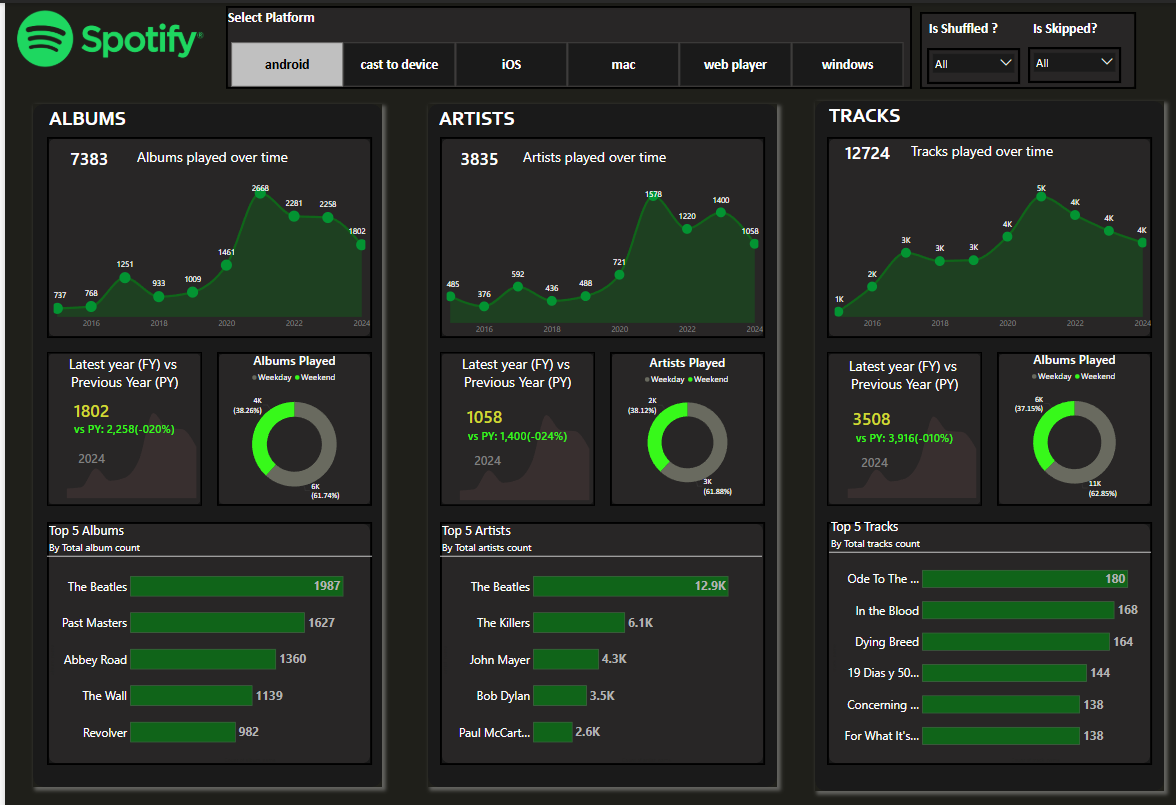

The dashboard page shown, as its layout file describes it:
{"tool":"powerbi","page":{"name":"Overview","canvas":[3300,2200],"ordinal":0},"visuals":[{"type":"shape","box":[600.2,8.1,1863.2,225.4],"z":0},{"type":"image","box":[0,0,575,200],"z":1000},{"type":"shape","box":[76,274.3,947.9,1855.1],"z":2000},{"type":"shape","box":[114.1,364,882.7,545.9],"z":3000},{"type":"textbox","box":[114.1,274.3,230.9,89.6],"z":4000},{"type":"card","fields":{"Values":["spotify_history.No of Albums"]},"box":[144,385.7,171.1,67.9],"z":5000},{"type":"textbox","box":[353.1,385.7,442.7,67.9],"z":6000},{"type":"areaChart","fields":{"Category":["Date Table.Year"],"Y":["spotify_history.No of Albums"]},"box":[114.1,480.7,882.7,412.8],"z":7000},{"type":"shape","box":[114.1,947.9,421,418.3],"z":8000},{"type":"areaChart","fields":{"Category":["Date Table.Year"],"Y":["spotify_history.No of Albums"]},"box":[114.1,1064.7,421,285.2],"z":9000},{"type":"textbox","box":[114.1,947.9,421,116.8],"z":10000},{"type":"card","fields":{"Values":["spotify_history.CurrentYearAlbums"]},"box":[144,1070.1,182,70.6],"z":11000},{"type":"card","fields":{"Values":["spotify_history.PY and YoY Albums KPI"]},"box":[160.2,1127.2,328.6,57],"z":12000},{"type":"slicer","fields":{"Values":["spotify_history.platform"]},"box":[589.4,100.5,1874.1,133.1],"z":13000},{"type":"card","fields":{"Values":["spotify_history.Max Year"]},"box":[171.1,1208.6,127.7,57],"z":14000},{"type":"shape","box":[575.8,947.9,421,418.3],"z":15000},{"type":"donutChart","title":"Albums Played","fields":{"Category":["Date Table.Weekday_Weekend"],"Y":["spotify_history.No of Albums"]},"box":[575.8,947.9,421,418.3],"z":16000},{"type":"shape","box":[114.1,1409.6,882.7,660],"z":17000},{"type":"barChart","title":"Top 5 Albums","fields":{"Category":["spotify_history.album_name"],"Y":["CountNonNull(spotify_history.album_name)"]},"box":[114.1,1409.6,882.7,660],"z":18000},{"type":"shape","box":[1148.9,274.3,947.9,1855.1],"z":19000},{"type":"shape","box":[2200,266.2,947.9,1874.1],"z":20000},{"type":"textbox","box":[1173.3,274.3,230.9,89.6],"z":21000},{"type":"shape","box":[1181.5,364,882.7,545.9],"z":22000},{"type":"donutChart","title":"Albums Played","fields":{"Category":["Date Table.Weekday_Weekend"],"Y":["spotify_history.No of Albums"]},"box":[1651.4,947.9,404.7,418.3],"z":23000},{"type":"shape","box":[1643.2,947.9,421,418.3],"z":24000},{"type":"shape","box":[1181.5,947.9,421,418.3],"z":25000},{"type":"shape","box":[1181.5,1409.6,882.7,660],"z":26000},{"type":"shape","box":[2232.6,364,882.7,545.9],"z":27000},{"type":"shape","box":[2232.6,947.9,421,418.3],"z":28000},{"type":"shape","box":[2694.3,947.9,421,418.3],"z":29000},{"type":"shape","box":[2232.6,1409.6,882.7,660],"z":30000},{"type":"textbox","box":[2254.3,274.3,230.9,89.6],"z":31000},{"type":"card","fields":{"Values":["spotify_history.No of Artists"]},"box":[1203.2,385.7,171.1,67.9],"z":32000},{"type":"textbox","box":[1401.5,385.7,442.7,67.9],"z":33000},{"type":"areaChart","fields":{"Category":["Date Table.Year"],"Y":["spotify_history.No of Artists"]},"box":[1181.5,497,882.7,412.8],"z":34000},{"type":"textbox","box":[1181.5,947.9,421,116.8],"z":35000},{"type":"areaChart","fields":{"Category":["Date Table.Year"],"Y":["spotify_history.No of Albums"]},"box":[1181.5,1070.1,421,285.2],"z":36000},{"type":"card","fields":{"Values":["spotify_history.Max Year"]},"box":[1246.7,1214.1,127.7,57],"z":37000},{"type":"card","fields":{"Values":["spotify_history.LatestYearArtists"]},"box":[1211.4,1086.4,182,70.6],"z":38000},{"type":"card","fields":{"Values":["spotify_history.PY and YoY Artists KPI"]},"box":[1227.7,1146.2,328.6,57],"z":39000},{"type":"donutChart","title":"Artists Played","fields":{"Category":["Date Table.Weekday_Weekend"],"Y":["spotify_history.No of Artists"]},"box":[1651.4,953.3,404.7,396.5],"z":40000},{"type":"barChart","title":"Top 5 Artists","fields":{"Category":["spotify_history.artist_name"],"Y":["CountNonNull(spotify_history.artist_name)"]},"box":[1181.5,1409.6,874.6,660],"z":41000},{"type":"card","fields":{"Values":["spotify_history.No of Tracks"]},"box":[2256.2,368.5,171.1,67.9],"z":42000},{"type":"textbox","box":[2454.4,368.5,442.7,67.9],"z":43000},{"type":"areaChart","fields":{"Category":["Date Table.Year"],"Y":["spotify_history.No of Tracks"]},"box":[2234.4,479.9,882.7,412.8],"z":44000},{"type":"textbox","box":[2231.7,952.5,421,116.8],"z":45000},{"type":"areaChart","fields":{"Category":["Date Table.Year"],"Y":["spotify_history.No of Albums"]},"box":[2235.3,1075.6,418.3,274.3],"z":46000},{"type":"card","fields":{"Values":["spotify_history.Max Year"]},"box":[2296.9,1218.6,127.7,57],"z":47000},{"type":"card","fields":{"Values":["spotify_history.LatestYearTracks"]},"box":[2261.6,1091,182,70.6],"z":48000},{"type":"card","fields":{"Values":["spotify_history.PY and YoY Tracks KPI"]},"box":[2277.9,1150.7,328.6,57],"z":49000},{"type":"donutChart","title":"Albums Played","fields":{"Category":["Date Table.Weekday_Weekend"],"Y":["spotify_history.No of Tracks"]},"box":[2702.5,945.2,404.7,412.8],"z":50000},{"type":"barChart","title":"Top 5 Tracks","fields":{"Category":["spotify_history.track_name"],"Y":["CountNonNull(spotify_history.track_name)"]},"box":[2238,1398.8,874.6,670.9],"z":51000},{"type":"textbox","box":[2232.6,266.2,230.9,89.6],"z":52000},{"type":"textbox","box":[600.2,10.9,274.3,89.6],"z":53000},{"type":"shape","box":[2485.2,24.4,586.7,209.1],"z":54000},{"type":"slicer","fields":{"Values":["spotify_history.shuffle"]},"box":[2504.2,122.2,252.6,97.8],"z":55000},{"type":"slicer","fields":{"Values":["spotify_history.skipped"]},"box":[2778.5,119.5,252.6,97.8],"z":56000},{"type":"textbox","box":[2504.2,40.7,274.3,89.6],"z":57000},{"type":"textbox","box":[2778.5,40.7,274.3,89.6],"z":58000}]}

Visuals, with their boxes in screenshot pixels (x1, y1, x2, y2), scaled from the page's 3300x2200 canvas onto the 1176x805 screenshot:
shape: 214,3,878,85
image: 0,0,205,73
shape: 27,100,365,779
shape: 41,133,355,333
textbox: 41,100,123,133
card - spotify_history.No of Albums: 51,141,112,166
textbox: 126,141,284,166
areaChart - Date Table.Year x spotify_history.No of Albums: 41,176,355,327
shape: 41,347,191,500
areaChart - Date Table.Year x spotify_history.No of Albums: 41,390,191,494
textbox: 41,347,191,390
card - spotify_history.CurrentYearAlbums: 51,392,116,417
card - spotify_history.PY and YoY Albums KPI: 57,412,174,433
slicer - spotify_history.platform: 210,37,878,85
card - spotify_history.Max Year: 61,442,106,463
shape: 205,347,355,500
"Albums Played" donutChart: 205,347,355,500
shape: 41,516,355,757
"Top 5 Albums" barChart: 41,516,355,757
shape: 409,100,747,779
shape: 784,97,1122,783
textbox: 418,100,500,133
shape: 421,133,736,333
"Albums Played" donutChart: 588,347,733,500
shape: 586,347,736,500
shape: 421,347,571,500
shape: 421,516,736,757
shape: 796,133,1110,333
shape: 796,347,946,500
shape: 960,347,1110,500
shape: 796,516,1110,757
textbox: 803,100,886,133
card - spotify_history.No of Artists: 429,141,490,166
textbox: 499,141,657,166
areaChart - Date Table.Year x spotify_history.No of Artists: 421,182,736,333
textbox: 421,347,571,390
areaChart - Date Table.Year x spotify_history.No of Albums: 421,392,571,496
card - spotify_history.Max Year: 444,444,490,465
card - spotify_history.LatestYearArtists: 432,398,497,423
card - spotify_history.PY and YoY Artists KPI: 438,419,555,440
"Artists Played" donutChart: 588,349,733,494
"Top 5 Artists" barChart: 421,516,733,757
card - spotify_history.No of Tracks: 804,135,865,160
textbox: 875,135,1032,160
areaChart - Date Table.Year x spotify_history.No of Tracks: 796,176,1111,327
textbox: 795,349,945,391
areaChart - Date Table.Year x spotify_history.No of Albums: 797,394,946,494
card - spotify_history.Max Year: 819,446,864,467
card - spotify_history.LatestYearTracks: 806,399,871,425
card - spotify_history.PY and YoY Tracks KPI: 812,421,929,442
"Albums Played" donutChart: 963,346,1107,497
"Top 5 Tracks" barChart: 798,512,1109,757
textbox: 796,97,878,130
textbox: 214,4,312,37
shape: 886,9,1095,85
slicer - spotify_history.shuffle: 892,45,982,80
slicer - spotify_history.skipped: 990,44,1080,80
textbox: 892,15,990,48
textbox: 990,15,1088,48
